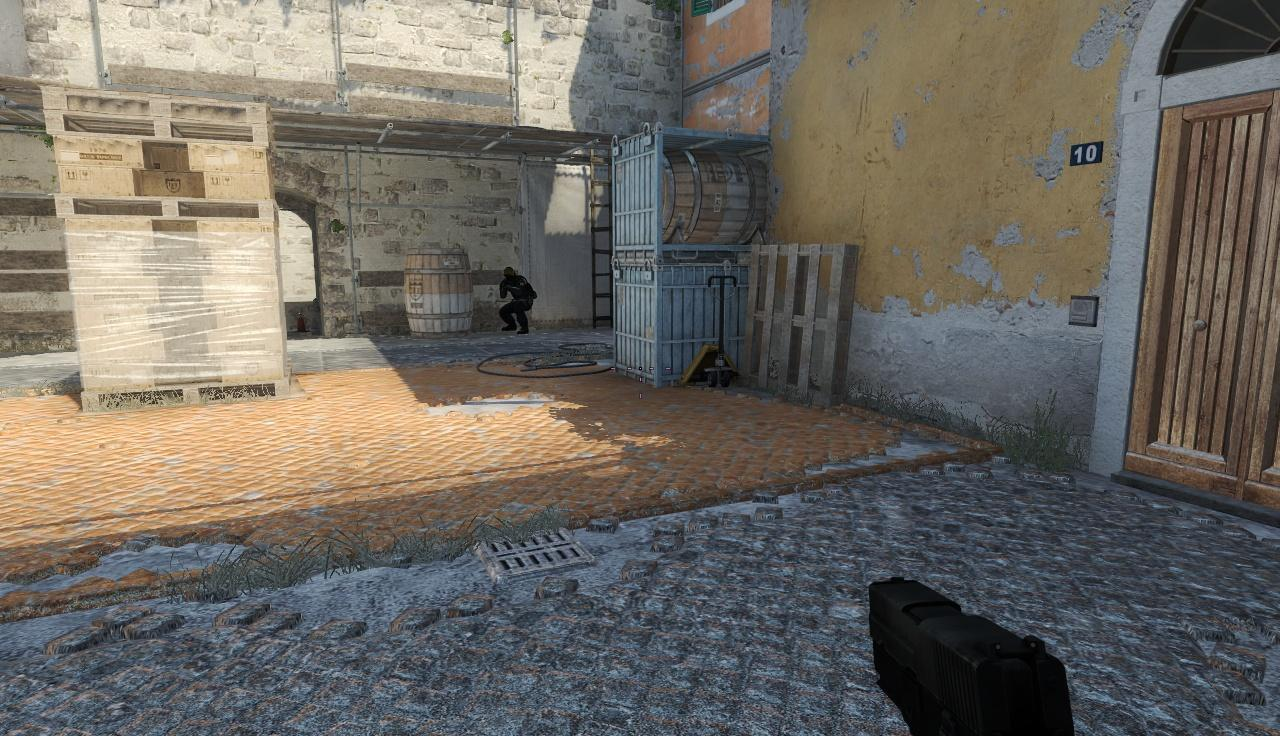ct: (498, 266, 533, 333)
cthead: (504, 267, 516, 280)
pistol: (853, 574, 1088, 736)
